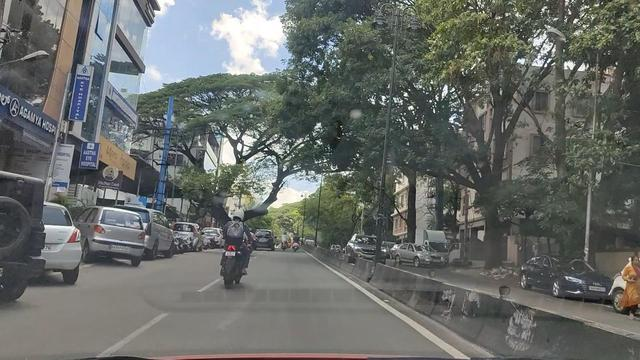LMV: (209, 204, 264, 298), (94, 203, 152, 278)
